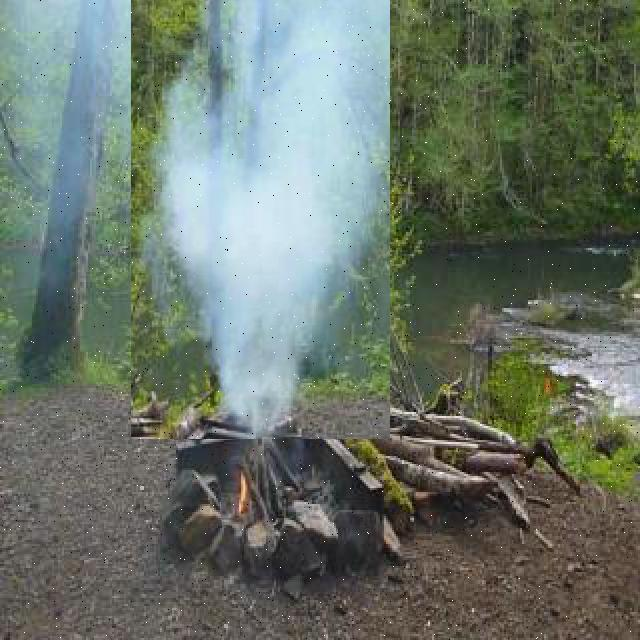fire: (131, 0, 390, 439), (221, 457, 276, 525)
